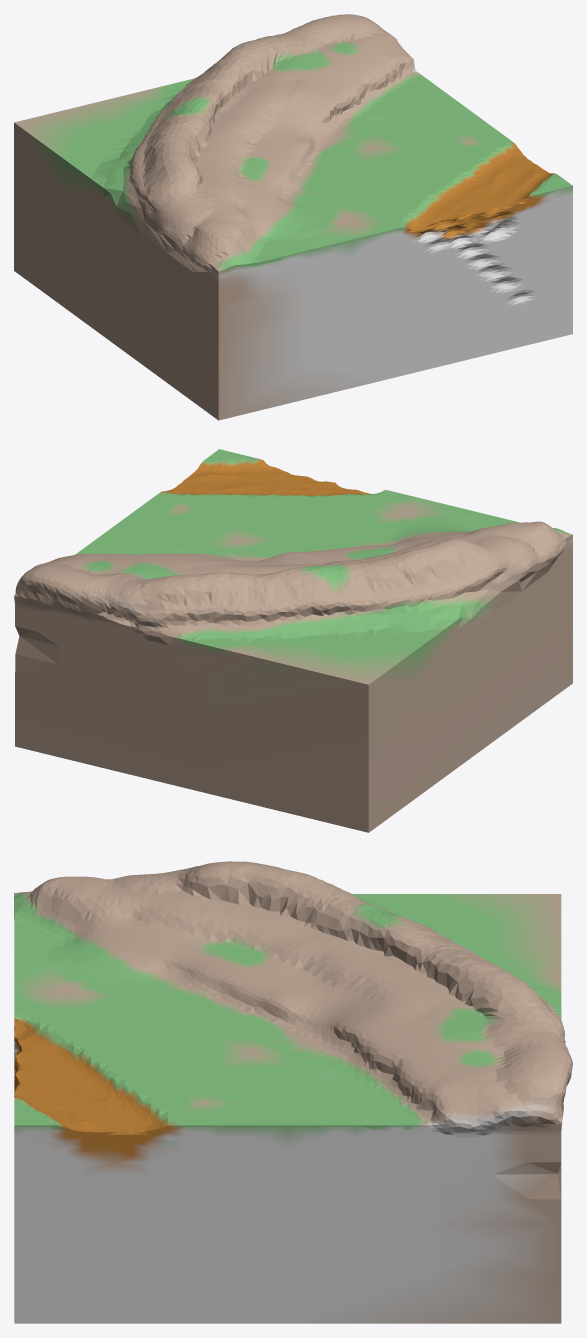
Rendered from chunck4.gltf.
The picture shows the model from 3 angles, top to bottom: view 1: azimuth 30°, elevation 25°; view 2: azimuth 150°, elevation 25°; view 3: azimuth 270°, elevation 25°; orthographic projection. The views are drawn at different scales.
Visible parts, largest first — view 1: Cube.005; view 2: Cube.005; view 3: Cube.005.
Boxes of the visible parts, x1,y1,x2,y2 form: Cube.005: (14,14,572,420); Cube.005: (14,449,572,832); Cube.005: (14,861,572,1323).
Bounding box in the file's own units: 104 × 51.73 × 102.
